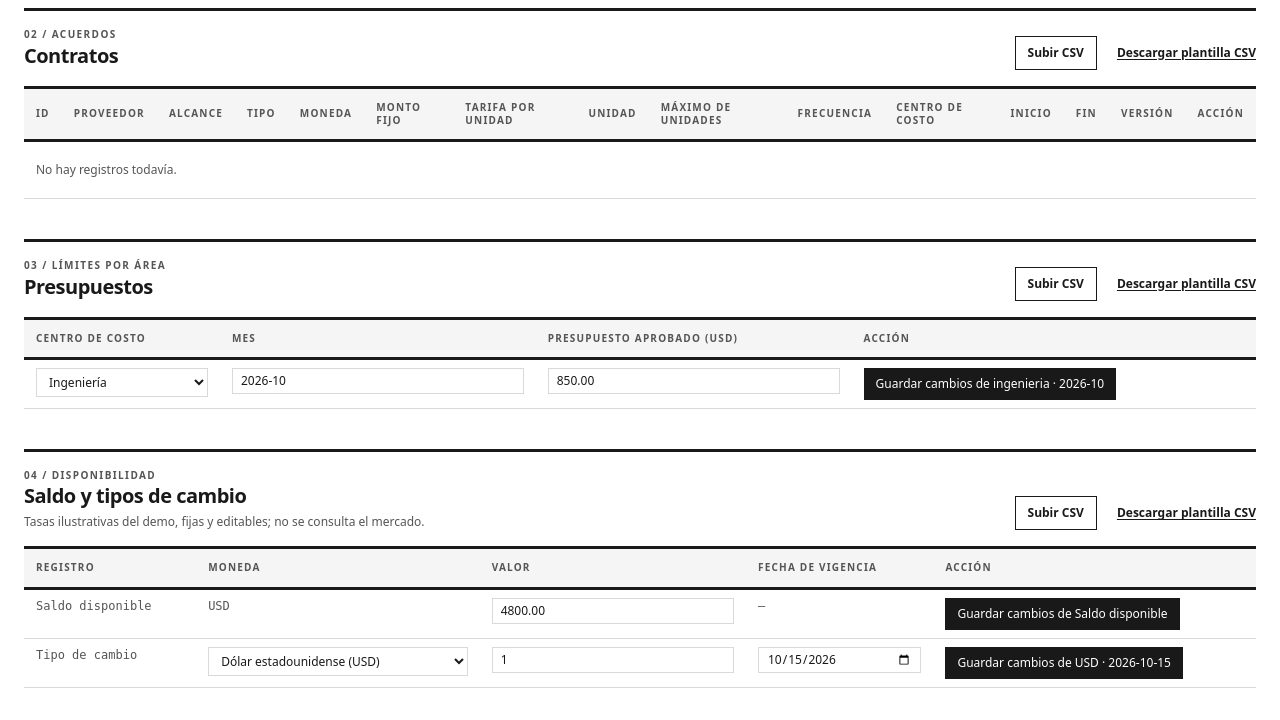
Test: Preparar datos › rejects inline amounts with more than two decimal places instead of rounding
(page scrolled)
Replace the text in the field named "Presupuesto aprobado (USD) — ingenieria · 2026-10" with "850.001". click: (694, 381)
box: x1=548 y1=368 x2=840 y2=394
(page scrolled)
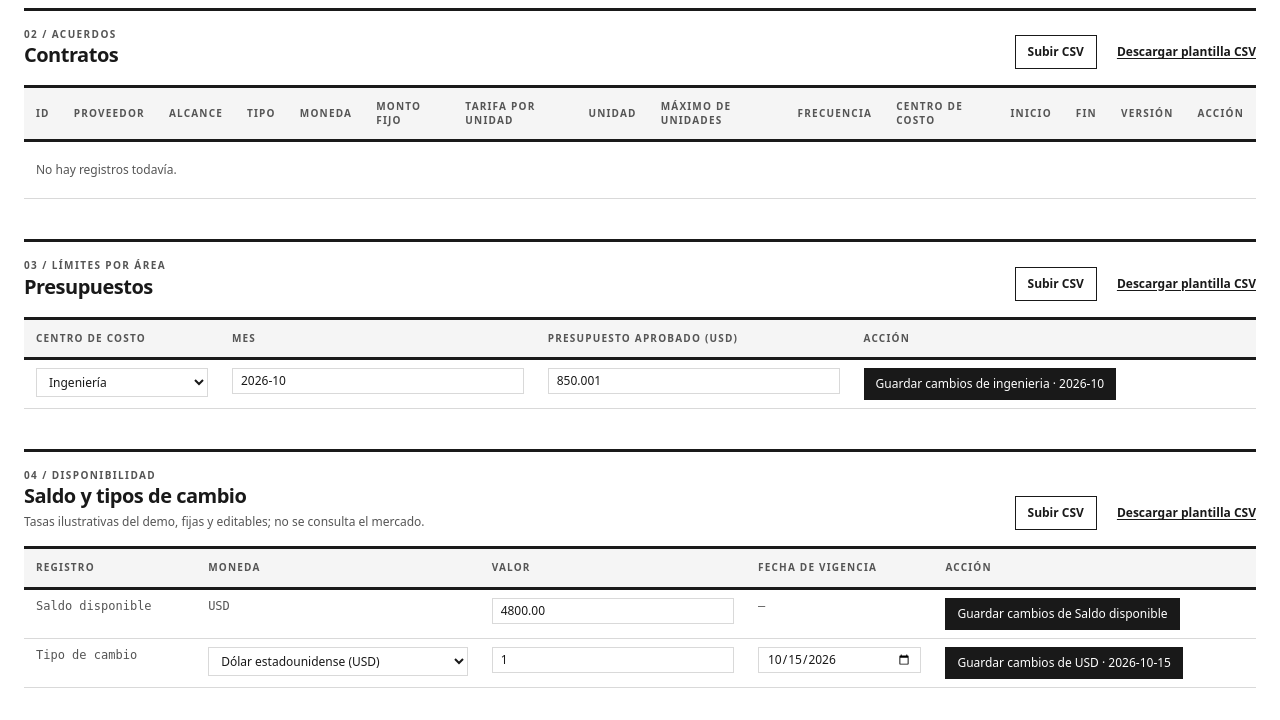
Click the button "Guardar cambios de ingenieria · 2026-10". click: (990, 384)
box: x1=864 y1=368 x2=1116 y2=400
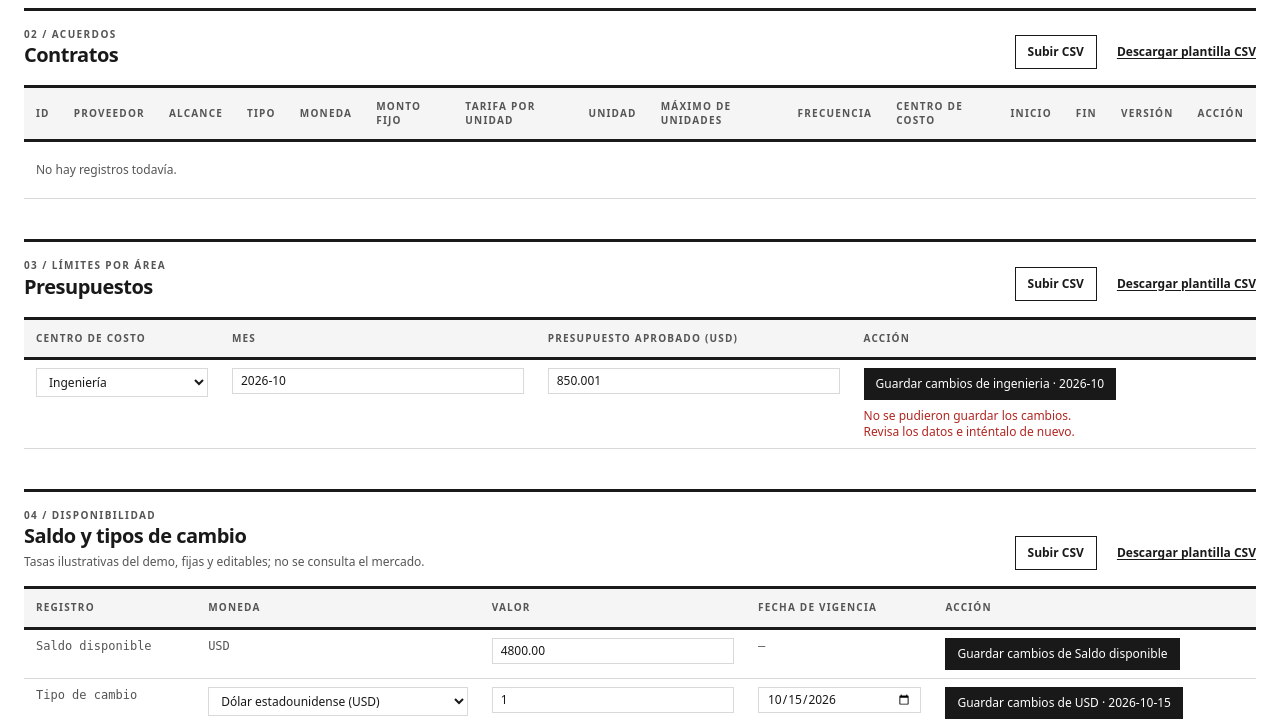
Result: the message "No se pudieron guardar los cambios. Revisa los datos e inténtalo de nuevo." is shown at x1=864 y1=408 x2=1088 y2=440
